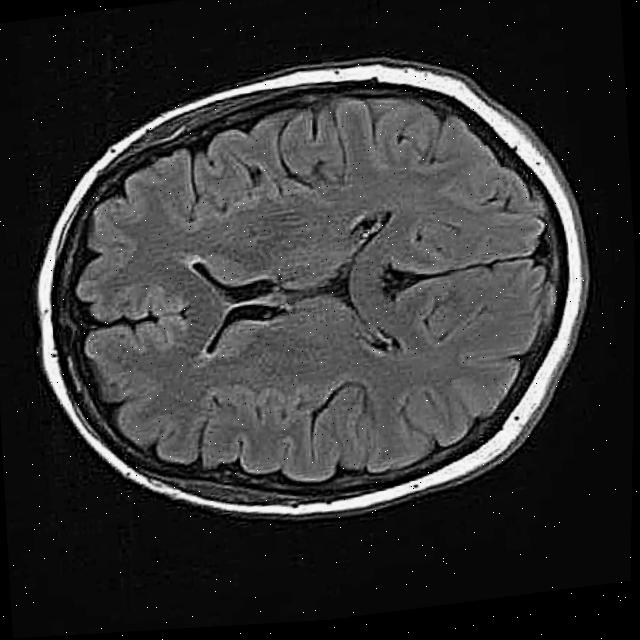NoTumor: (12, 19, 609, 556)
